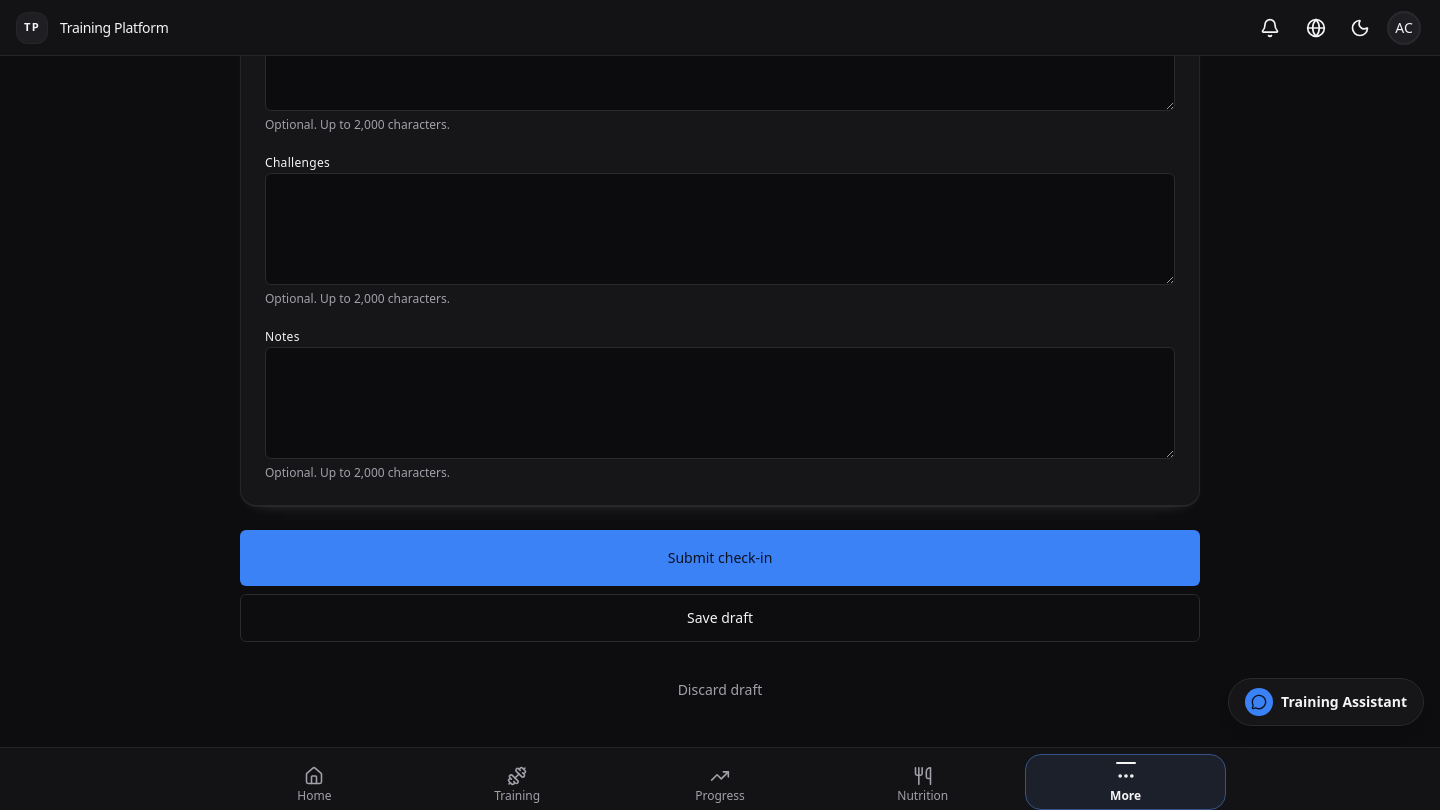
Client check-ins › does not submit an empty draft
This screenshot has width=1440, height=810.
(page scrolled)
What coordinates should you click on to do the following:
click the button "Submit check-in"
I would click on:
 (720, 558)
Its box is x1=240 y1=530 x2=1200 y2=586.
(page scrolled)
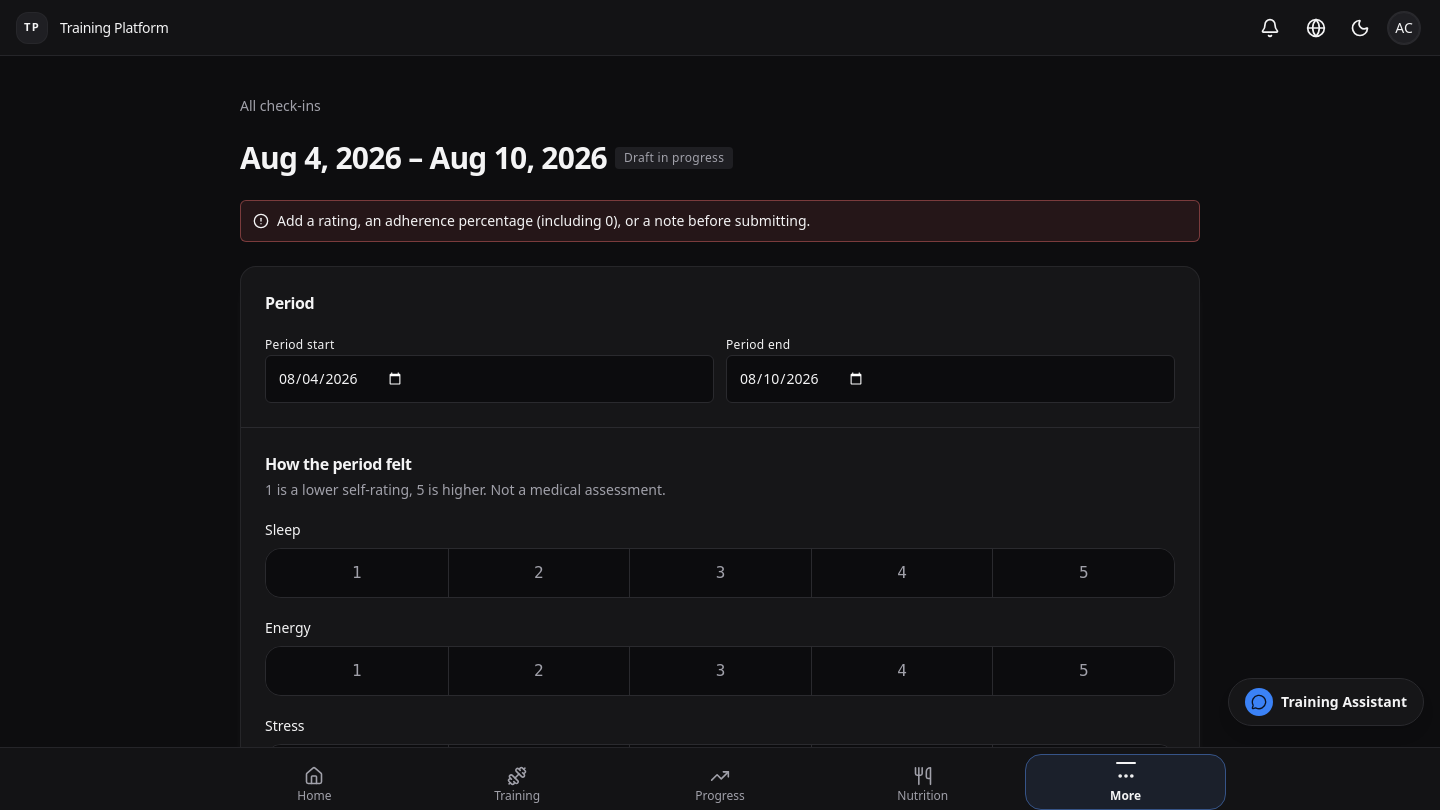
Check: the text "Add a rating, an adherence percentage (including 0), or a note before submitting." is shown, box x1=277 y1=211 x2=810 y2=230
